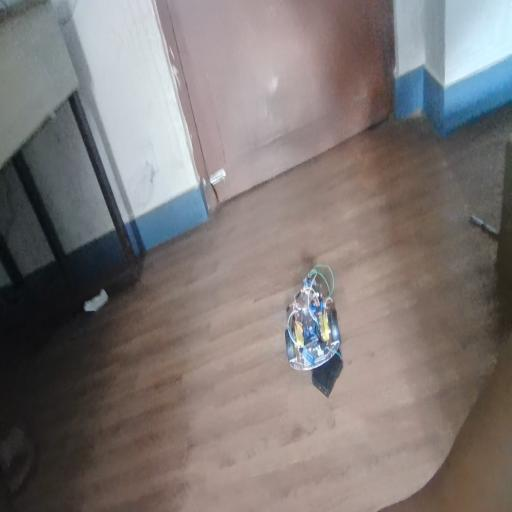car: (286, 287, 350, 390)
